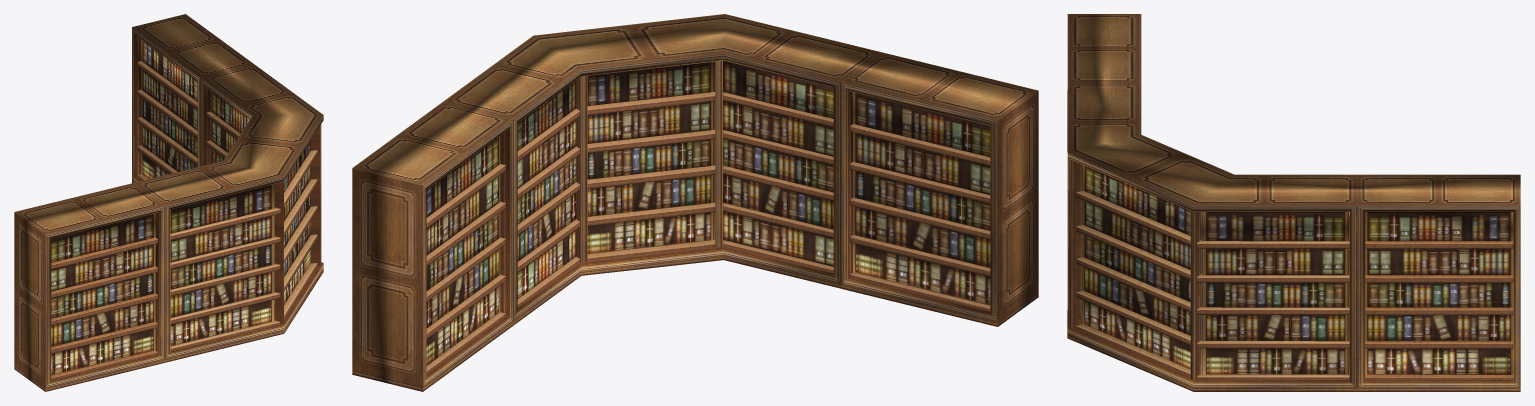
The model's file is a_SCbookcase01_3.glb.
3 views of the same model, side by side, from view 1: azimuth 30°, elevation 25°; view 2: azimuth 150°, elevation 25°; view 3: azimuth 270°, elevation 25° (orthographic). The views are drawn at different scales.
Visible parts, largest first — view 1: a_SCbookcase01_3; view 2: a_SCbookcase01_3; view 3: a_SCbookcase01_3.
Part boxes in pixels (x1,y1,x2,y2): a_SCbookcase01_3: [14, 14, 323, 391]; a_SCbookcase01_3: [352, 14, 1038, 391]; a_SCbookcase01_3: [1067, 14, 1520, 391].
Size of the model in its own units: 5.07 by 2.3 by 5.07.
1 material, 1 textured.
